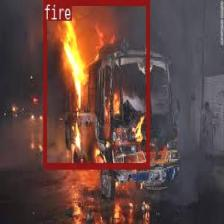fire: (42, 0, 148, 168)
